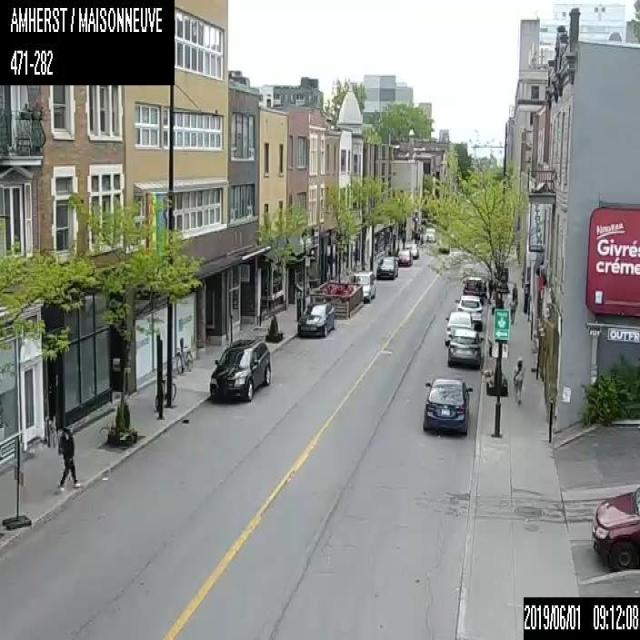pedestrian: (56, 423, 81, 492), (511, 353, 524, 404), (508, 293, 517, 325), (511, 281, 517, 308), (487, 276, 492, 303)
vehicle: (207, 335, 273, 400), (420, 374, 473, 434), (296, 297, 334, 336), (447, 328, 483, 368), (445, 311, 474, 346), (455, 294, 484, 327), (350, 269, 378, 302), (462, 276, 485, 300), (376, 255, 398, 278), (397, 248, 412, 265), (404, 243, 418, 258), (424, 226, 436, 242)
